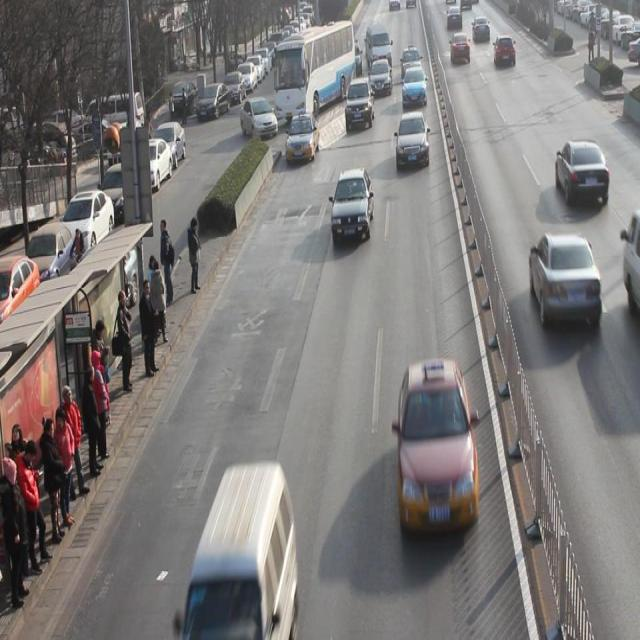car: (398, 361, 481, 533), (530, 233, 603, 328), (556, 140, 610, 208), (331, 166, 374, 246), (396, 112, 430, 170), (286, 112, 320, 164), (346, 78, 376, 132), (401, 66, 428, 110), (368, 57, 393, 98), (494, 34, 516, 68), (450, 32, 471, 65)
truck: (185, 462, 298, 640)
van: (273, 21, 354, 121)
